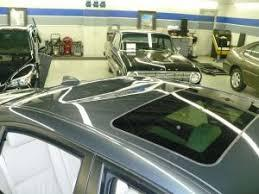roof-dent: (18, 75, 188, 136)
